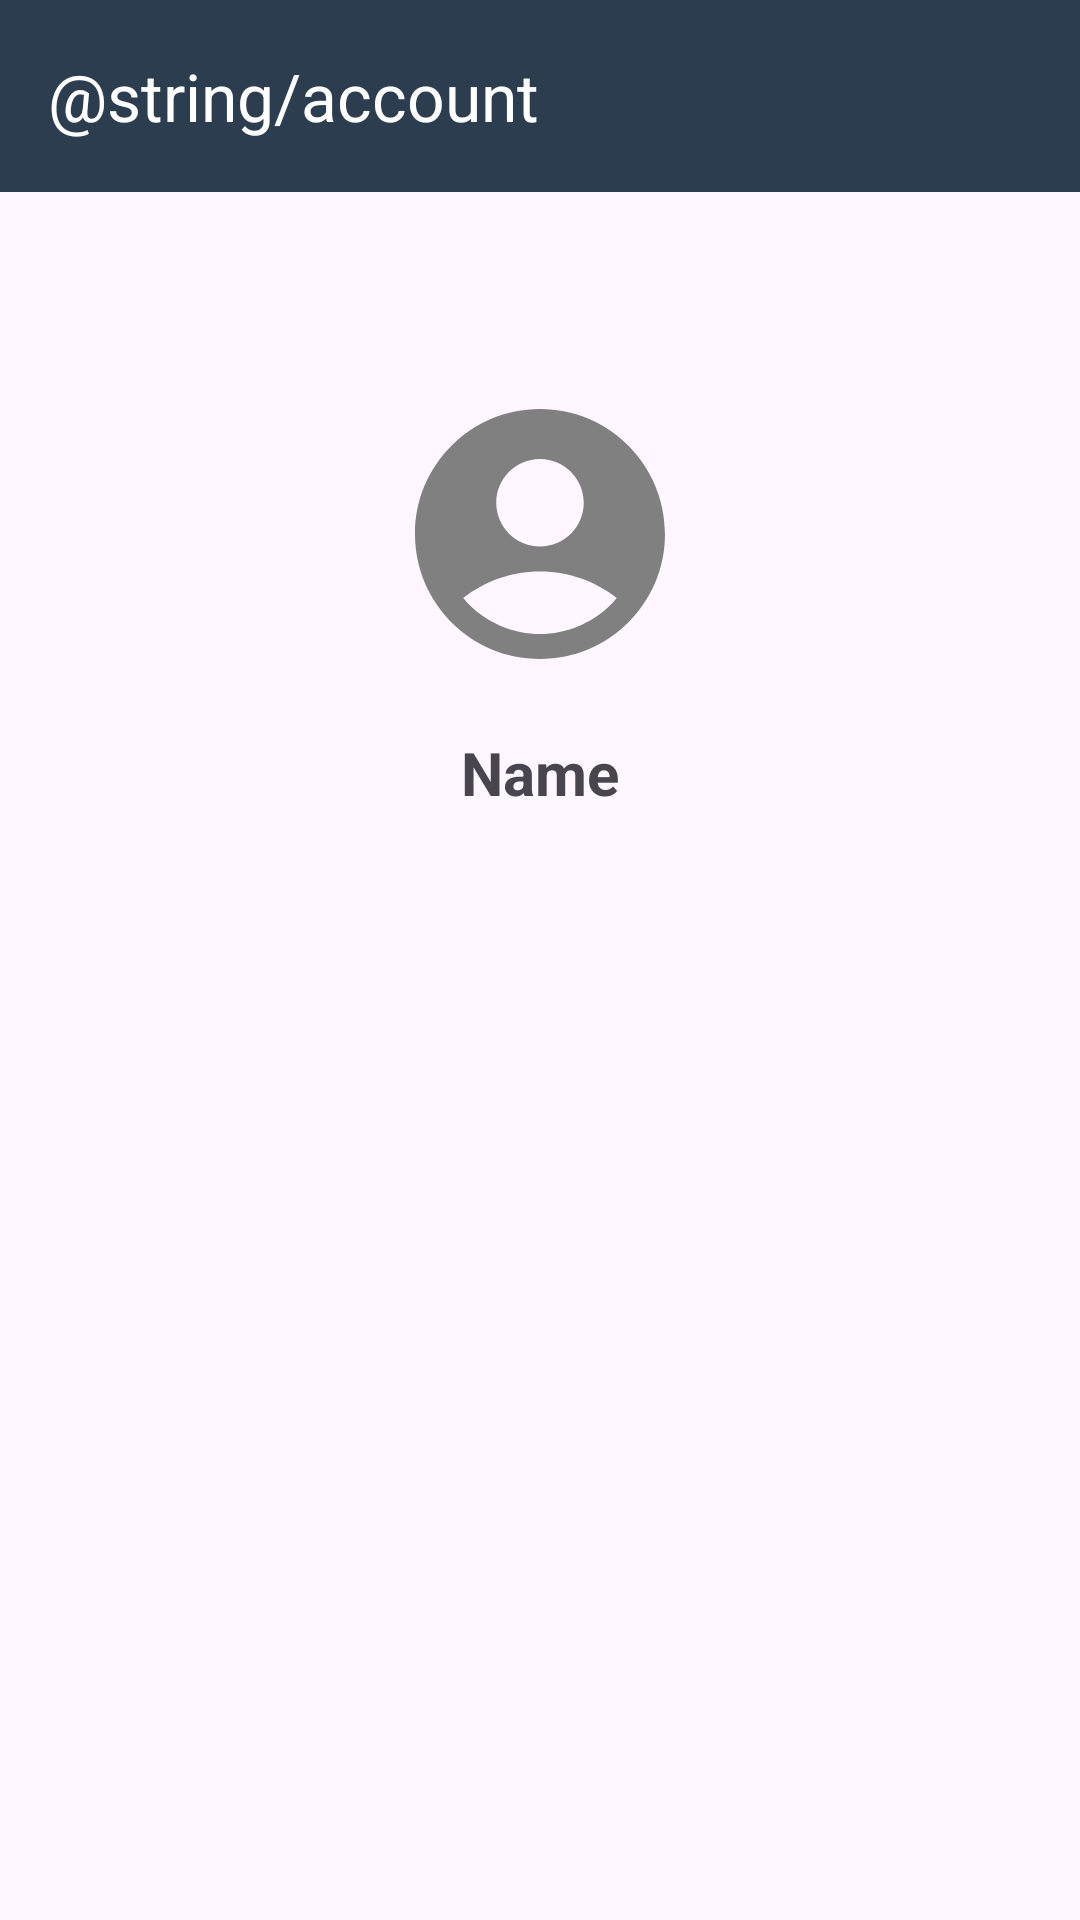

Where to tap for icons on this 1080×1920 app screen, as point (x, y):
account circle: point (540, 534)
